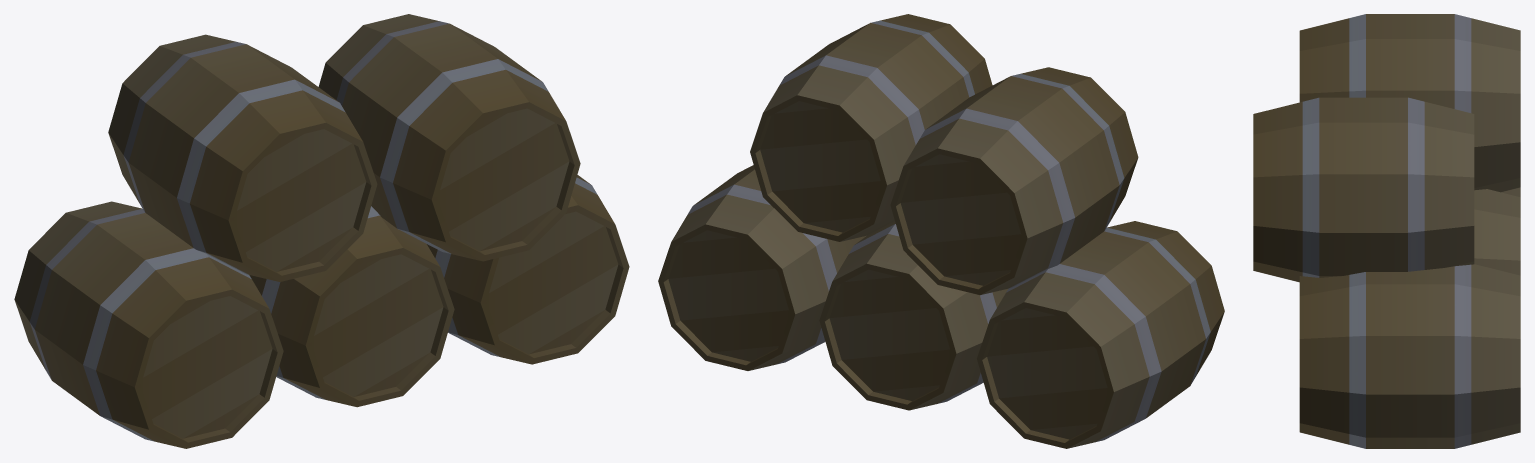
File: Barrel_1C_LOD1.fbx
3 views of the same model, side by side, from view 1: azimuth 30°, elevation 25°; view 2: azimuth 150°, elevation 25°; view 3: azimuth 270°, elevation 25° (orthographic). The views are drawn at different scales.
Visible parts, largest first — view 1: polySurface9636; view 2: polySurface9636; view 3: polySurface9636.
Part boxes in pixels (bbox=[...]): polySurface9636: bbox=[14, 14, 629, 448]; polySurface9636: bbox=[658, 14, 1224, 448]; polySurface9636: bbox=[1253, 14, 1520, 448].
Size of the model in its own units: 424 by 249 by 203.
